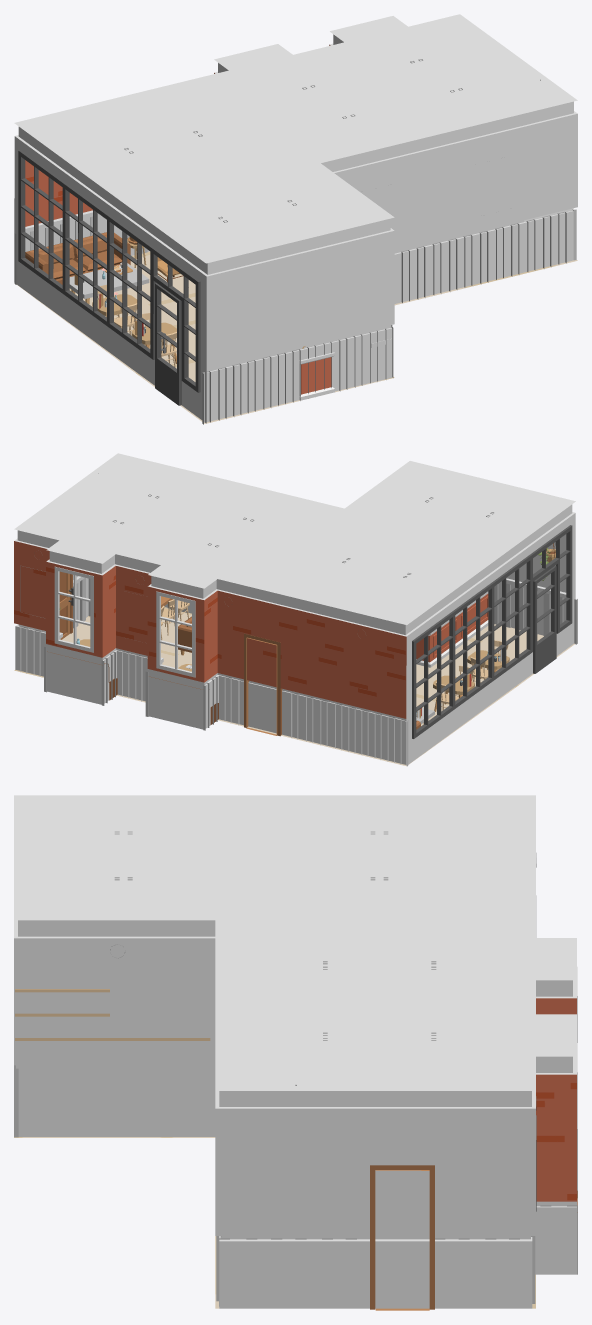
Rendered from Caffe_Enviroment_Model.fbx.
3 renders of one model, top to bottom at view 1: azimuth 30°, elevation 25°; view 2: azimuth 150°, elevation 25°; view 3: azimuth 270°, elevation 25°, orthographic. The views are drawn at different scales.
Visible parts, largest first — view 1: Wall, Ceiling, Large_Window, Panneling, Flooring, Front_Door, Couch_1, Front_Counter, Coffe_Table_2; view 2: Wall, Ceiling, Large_Window, Panneling, Flooring, Front_Door, Windows_2, Front_Counter, Window_1, Door_Frame_2, Door_Frame_1, Door_2; view 3: Ceiling, Wall, Door_1, Shelves, Panneling.
Boxes of the visible parts, x1,y1,x2,y2 form: Wall: (14, 34, 577, 423); Ceiling: (14, 14, 577, 263); Large_Window: (18, 150, 200, 392); Panneling: (14, 209, 576, 424); Flooring: (16, 251, 577, 423); Front_Door: (155, 283, 181, 405); Couch_1: (25, 232, 130, 284); Front_Counter: (299, 352, 334, 400); Coffe_Table_2: (69, 263, 149, 304); Wall: (14, 504, 575, 765); Ceiling: (14, 453, 575, 624); Large_Window: (412, 525, 572, 738); Panneling: (20, 577, 577, 766); Flooring: (14, 607, 574, 766); Front_Door: (533, 566, 556, 673); Windows_2: (54, 566, 93, 652); Front_Counter: (416, 591, 488, 667); Window_1: (156, 591, 195, 677); Door_Frame_2: (244, 633, 282, 736); Door_Frame_1: (59, 571, 73, 639); Door_2: (246, 637, 277, 735); Ceiling: (14, 795, 576, 1090); Wall: (14, 895, 576, 1308); Door_1: (370, 1165, 434, 1309); Shelves: (15, 989, 210, 1040); Panneling: (14, 1065, 577, 1306).
Size of the model in its own units: 35.68 by 12.29 by 28.54.
